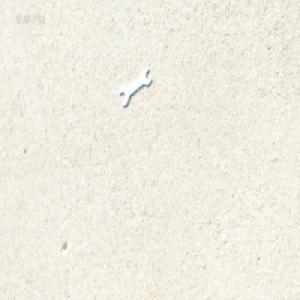Wrench: (119, 67, 152, 106)
